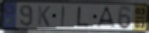6: (117, 5, 133, 30)
9: (19, 4, 34, 27)
A: (95, 6, 117, 29)
I: (60, 5, 66, 28)
K: (37, 4, 52, 27)
L: (76, 6, 91, 28)
